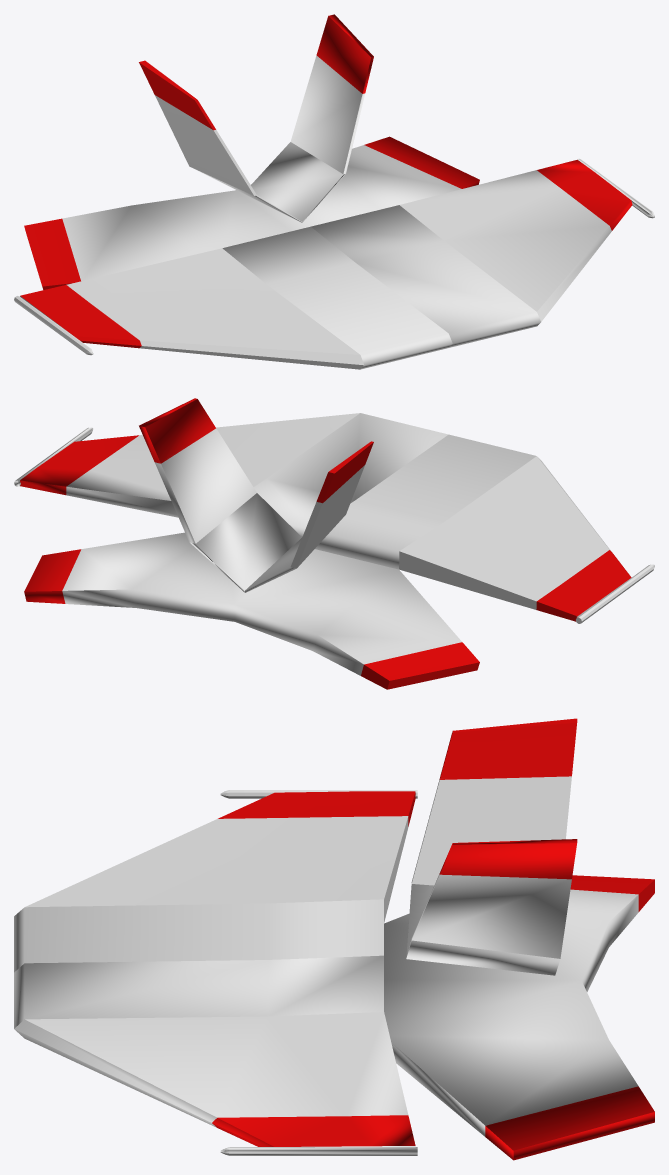
The model's file is 1_Wing.fbx.
3 renders of one model, top to bottom at view 1: azimuth 30°, elevation 25°; view 2: azimuth 150°, elevation 25°; view 3: azimuth 270°, elevation 25°, orthographic. The views are drawn at different scales.
Visible parts, largest first — view 1: 1_Wing; view 2: 1_Wing; view 3: 1_Wing.
Part boxes in pixels (x1,y1,x2,y2): 1_Wing: (14, 14, 654, 369); 1_Wing: (14, 398, 654, 689); 1_Wing: (14, 718, 654, 1160).
Size of the model in its own units: 2.11 by 0.6593 by 1.58.
